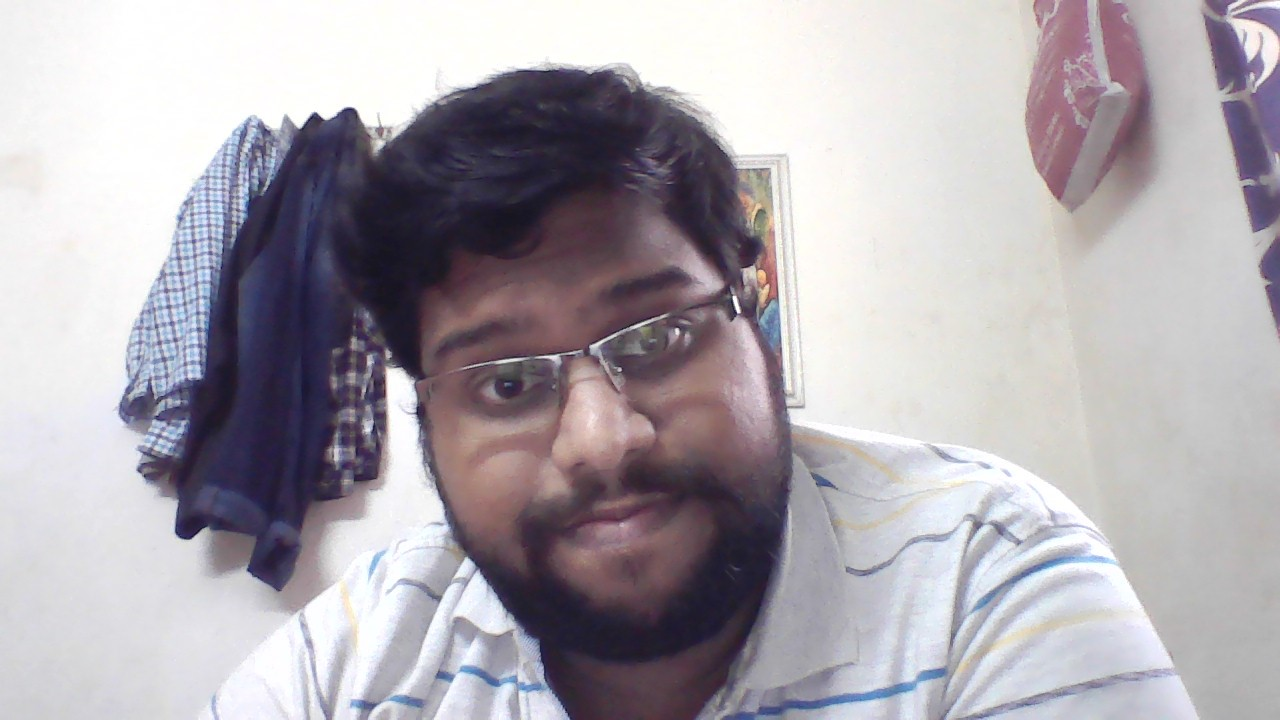NoMask: (421, 399, 821, 625)
